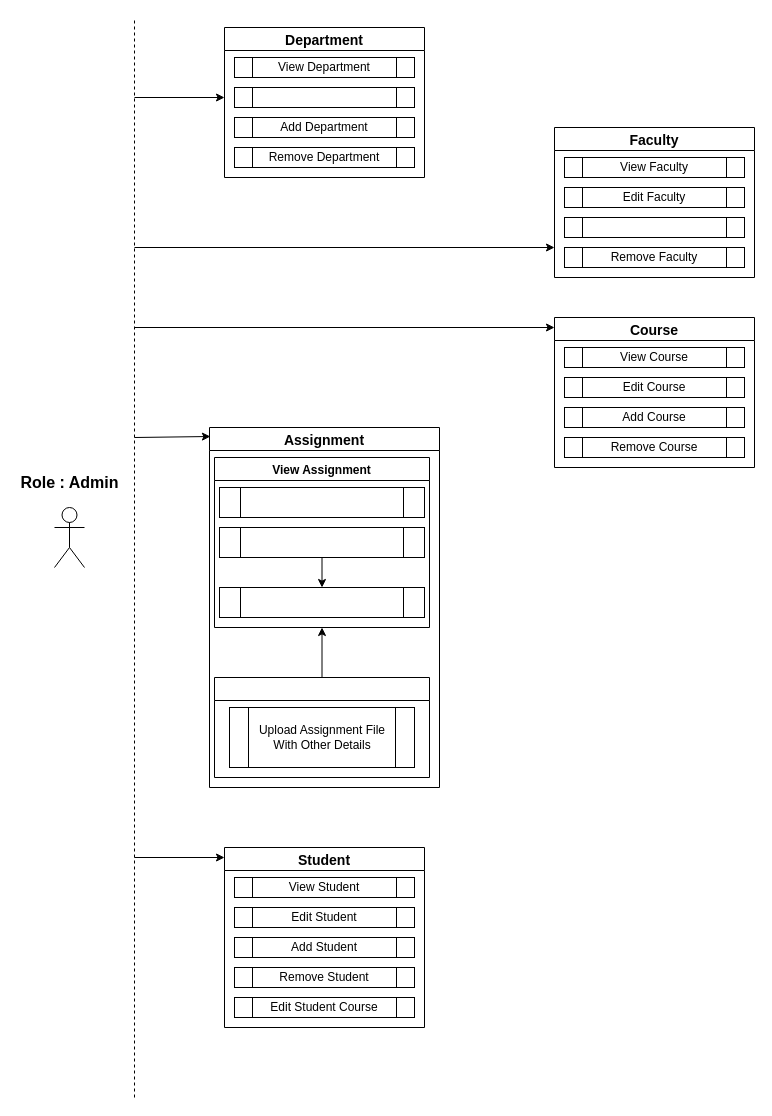
Some shapes in this 772 by 1116 pixel diagram are drawn without their labels. Here are the shapes that lost their labels. From the top down, the box of each, then its label:
(234, 86, 414, 108): Edit Department
(564, 216, 744, 238): Add Faculty
(218, 486, 424, 518): Download Assignment File
(54, 506, 84, 568): Actor
(218, 526, 424, 558): Search Assignment
(218, 586, 424, 618): Display Assignment
(214, 676, 430, 778): Add Assignment
